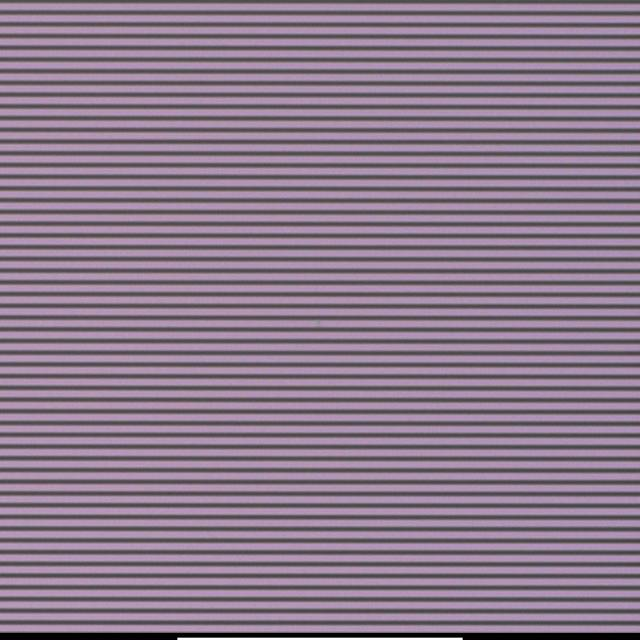nonvisual: (309, 313, 317, 323)
